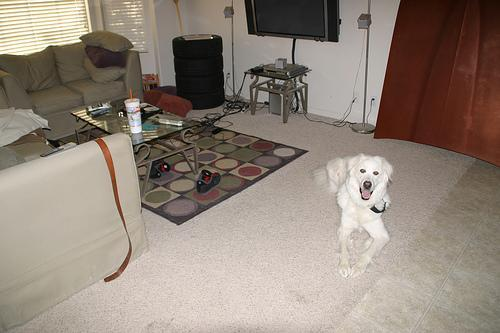Great_Pyrenees: (313, 153, 395, 280)
